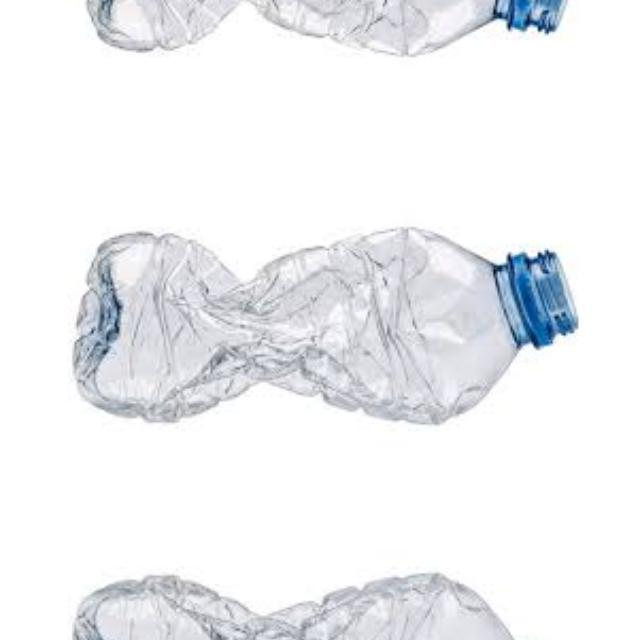Plastic: (39, 190, 592, 444), (38, 0, 591, 92), (38, 551, 591, 640)
